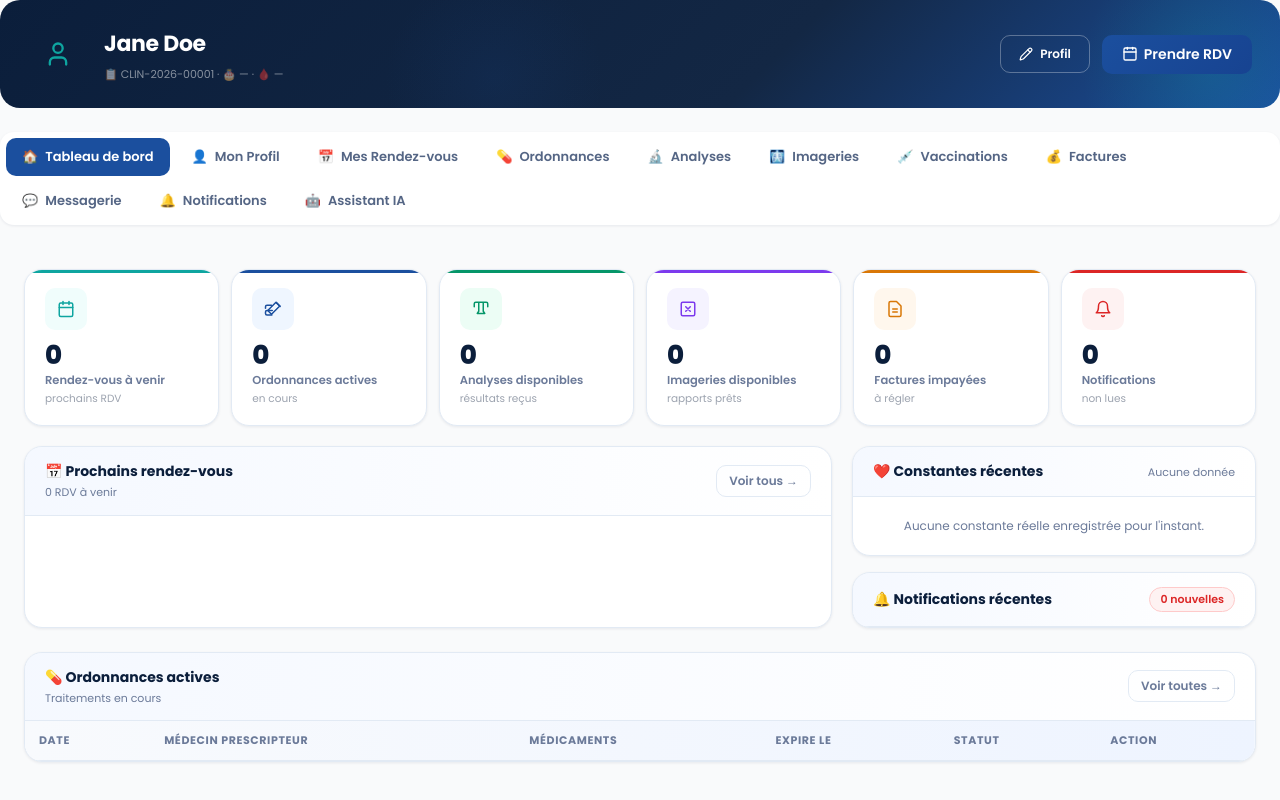
Test: Messagerie — charge les vraies conversations et affiche les vrais messages en ouvrant une conversation
This screenshot has width=1280, height=800.
Click the button "💬 Messagerie" at (72, 200), box [6,182,138,219]
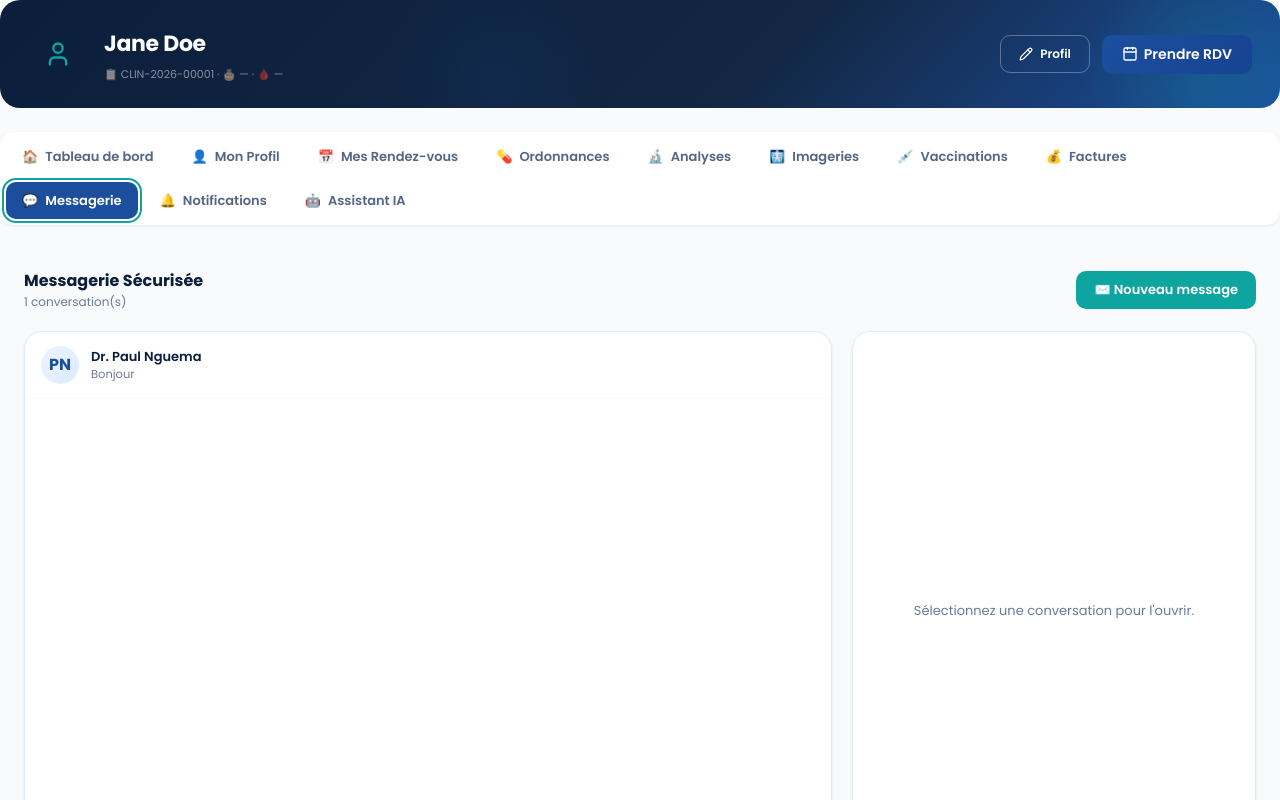
Check: the text "Dr. Paul Nguema" is shown, box [91,347,202,366]
Click the text "Bonjour" at (113, 374), box [91,366,135,382]
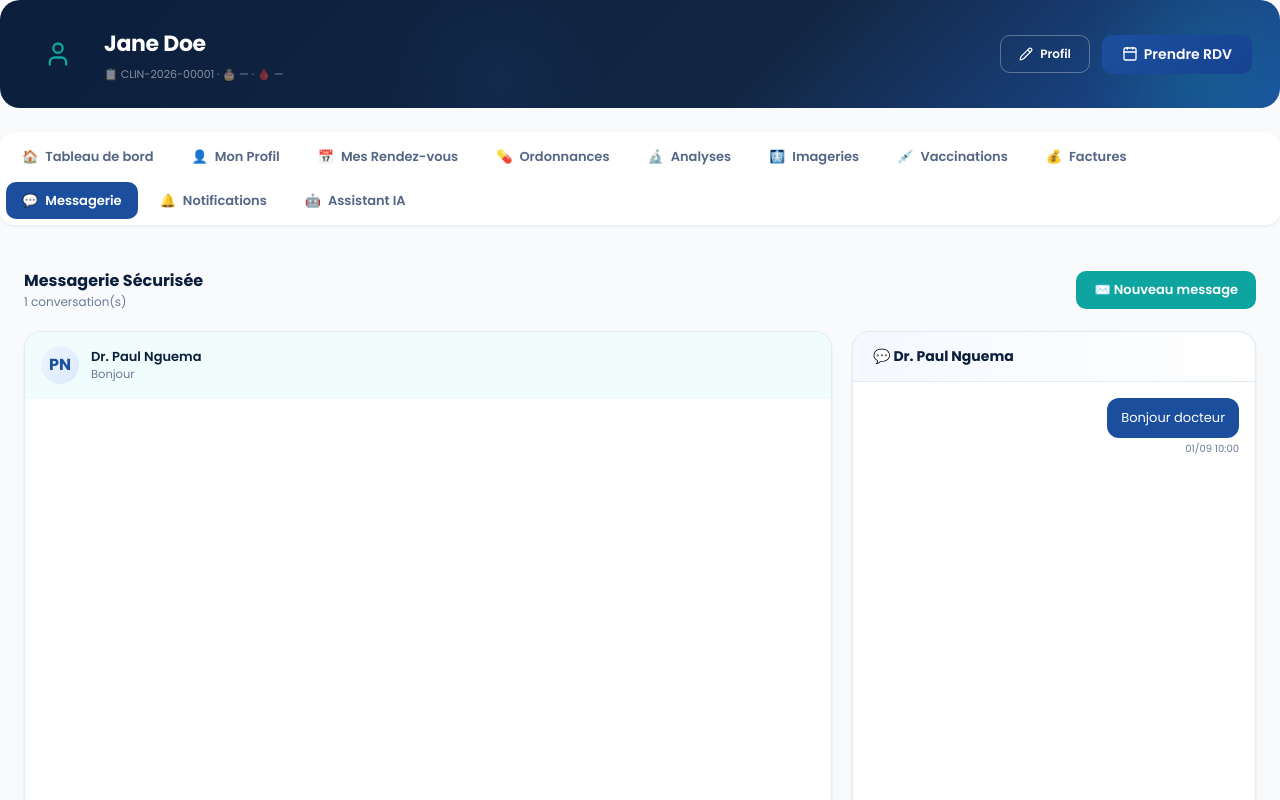
Check: the text "Bonjour docteur" is shown, box [1107,398,1239,438]
